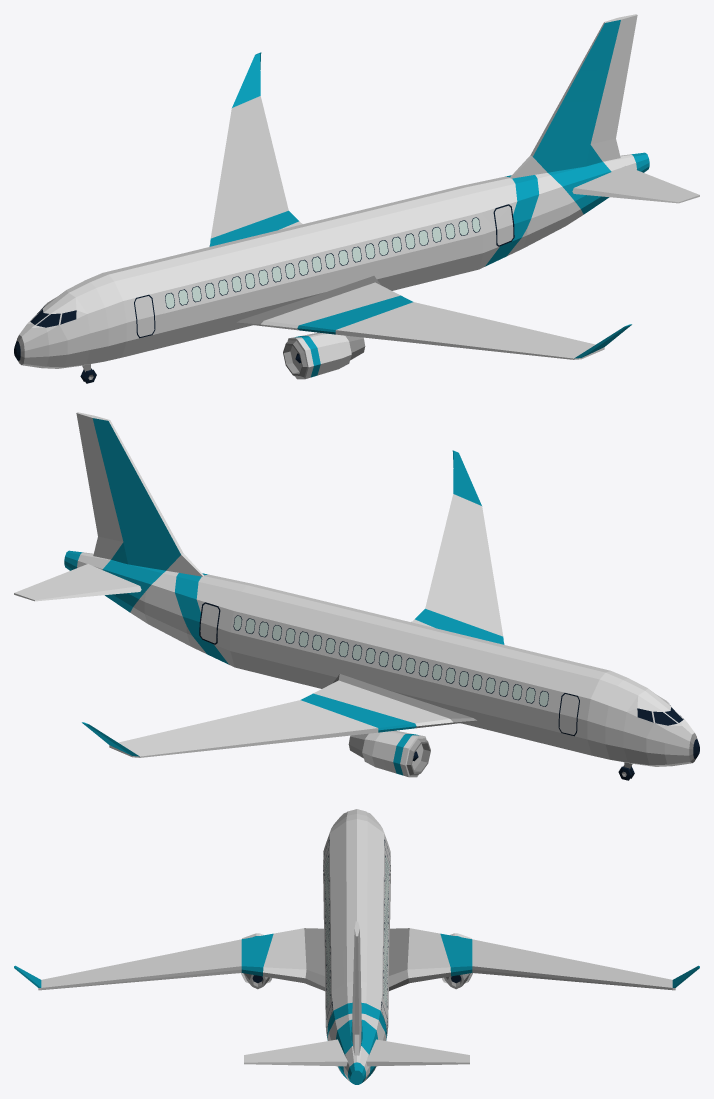
Rendered from airplane.gltf.
3 renders of one model, top to bottom at view 1: azimuth 30°, elevation 25°; view 2: azimuth 150°, elevation 25°; view 3: azimuth 270°, elevation 25°, orthographic. The views are drawn at different scales.
Parts seen in each view (by area): view 1: Cube; view 2: Cube; view 3: Cube.
Part boxes in pixels (x1,y1,x2,y2): Cube: (14, 14, 699, 379); Cube: (14, 412, 699, 777); Cube: (14, 809, 699, 1084).
Size of the model in its own units: 2.01 by 0.7214 by 2.05.
